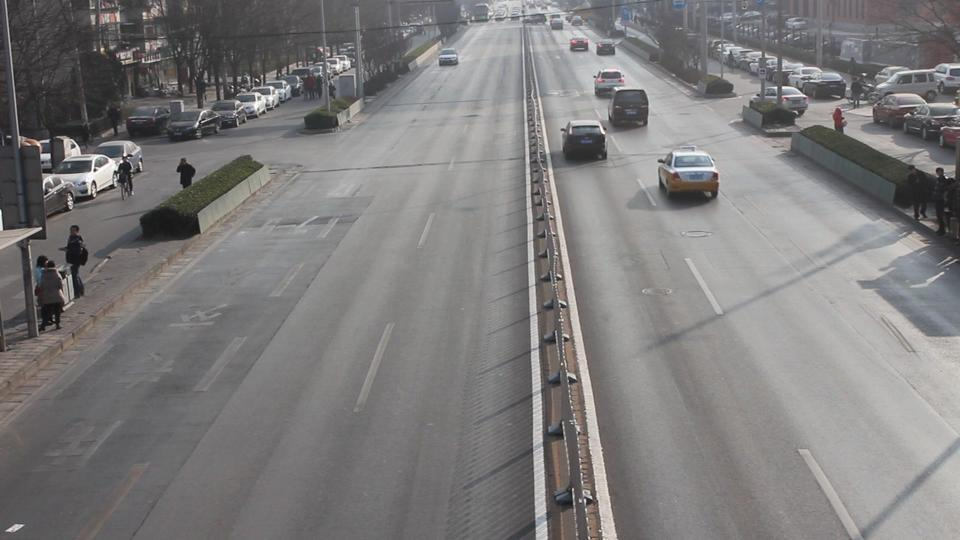car: (657, 148, 721, 198), (49, 154, 117, 201), (875, 69, 949, 102), (19, 135, 81, 172), (870, 92, 931, 127), (560, 119, 608, 162), (745, 85, 809, 117), (902, 106, 960, 140), (165, 109, 222, 141), (126, 103, 179, 137), (791, 68, 848, 99), (609, 87, 650, 130), (94, 140, 145, 168), (42, 176, 75, 215), (208, 100, 245, 128), (593, 66, 626, 97), (932, 63, 960, 94), (235, 93, 261, 120), (254, 86, 278, 111), (265, 81, 290, 104), (939, 123, 960, 149), (281, 75, 303, 98), (594, 38, 616, 56), (438, 49, 459, 67), (569, 36, 589, 52), (548, 14, 563, 29)
